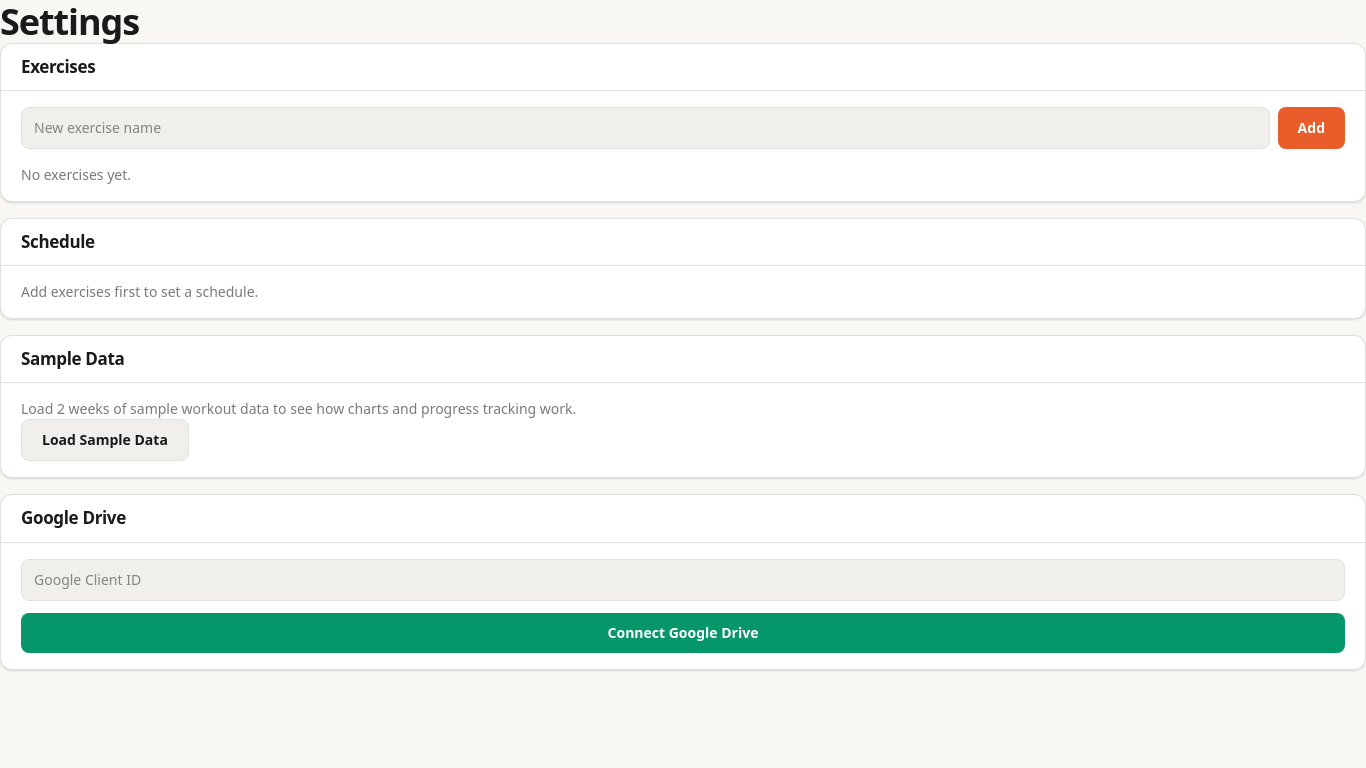
Settings - Exercise List › renames an exercise
This screenshot has width=1366, height=768.
Type "Bench Press" into the field with placeholder "New exercise name" at (645, 128), box [21,107,1270,149]
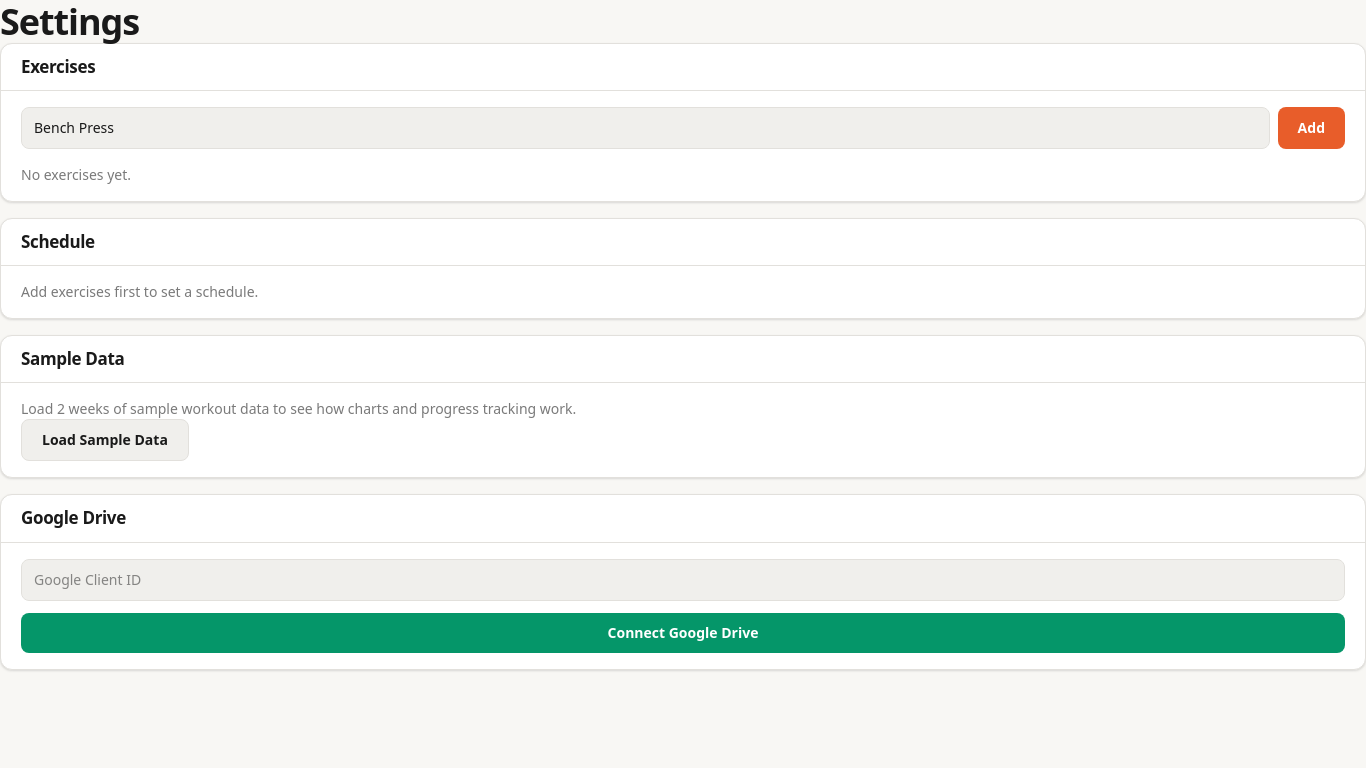
Click the button "Add" at (1311, 128), box [1278,107,1345,149]
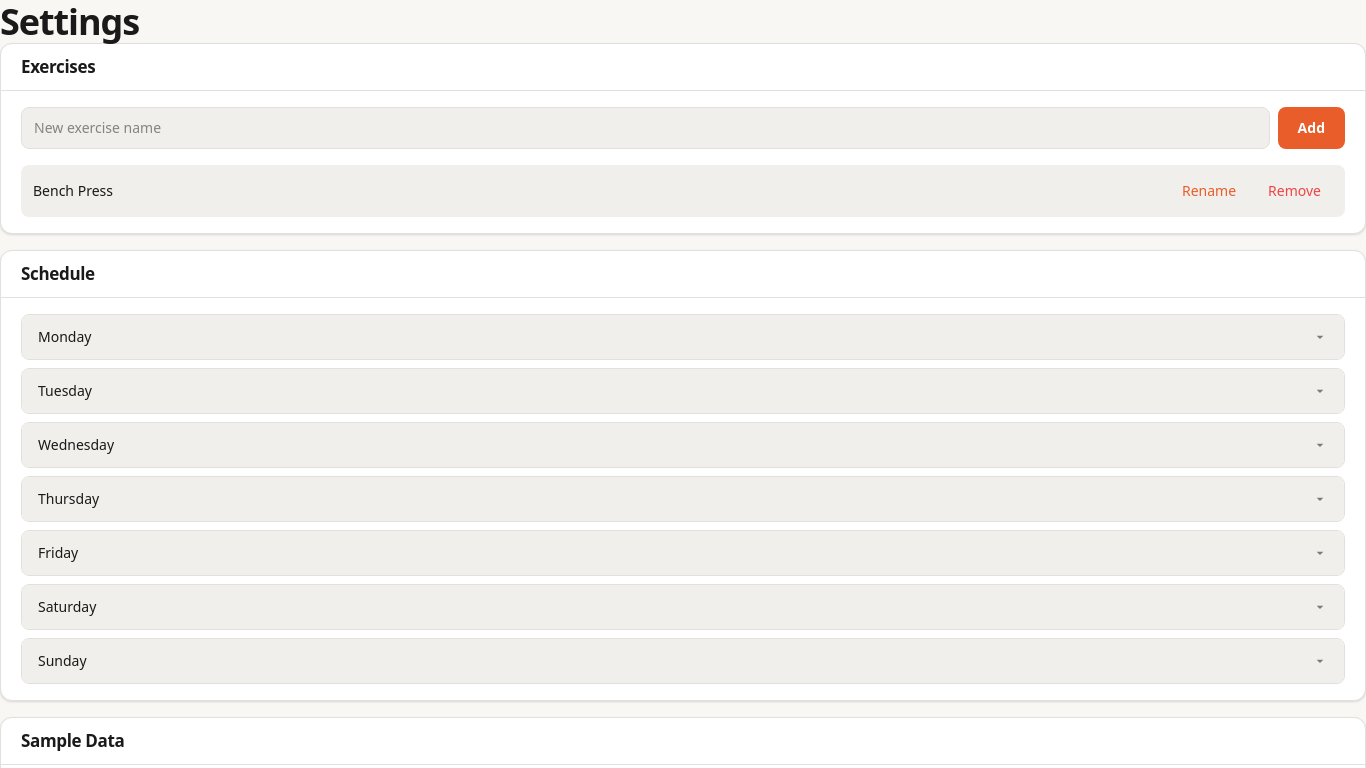
Click the button "Rename" at (1209, 191), box [1170,175,1248,207]
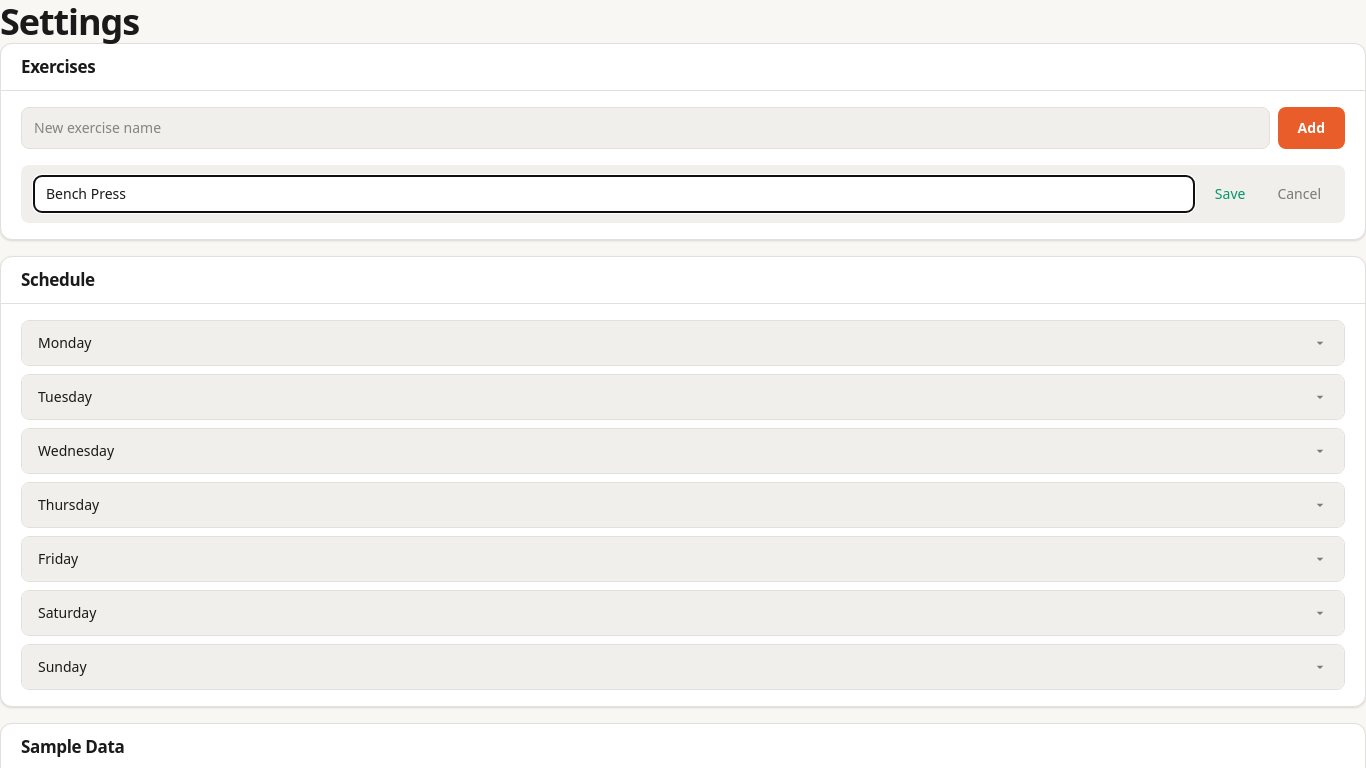
Replace the text in the field showing "Bench Press" with "Chest Press" at (614, 194), box [33,175,1195,213]
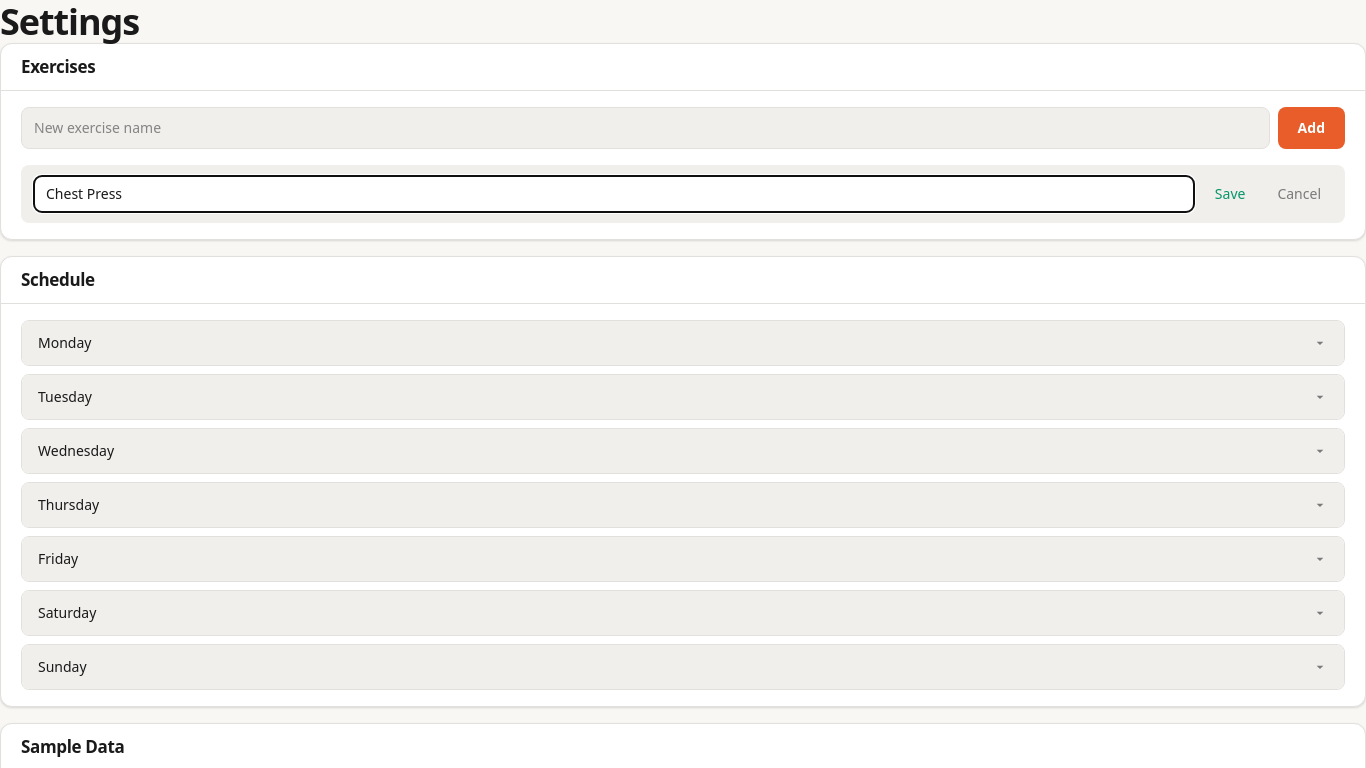
Click the button "Save" at (1230, 194), box [1203,178,1257,210]
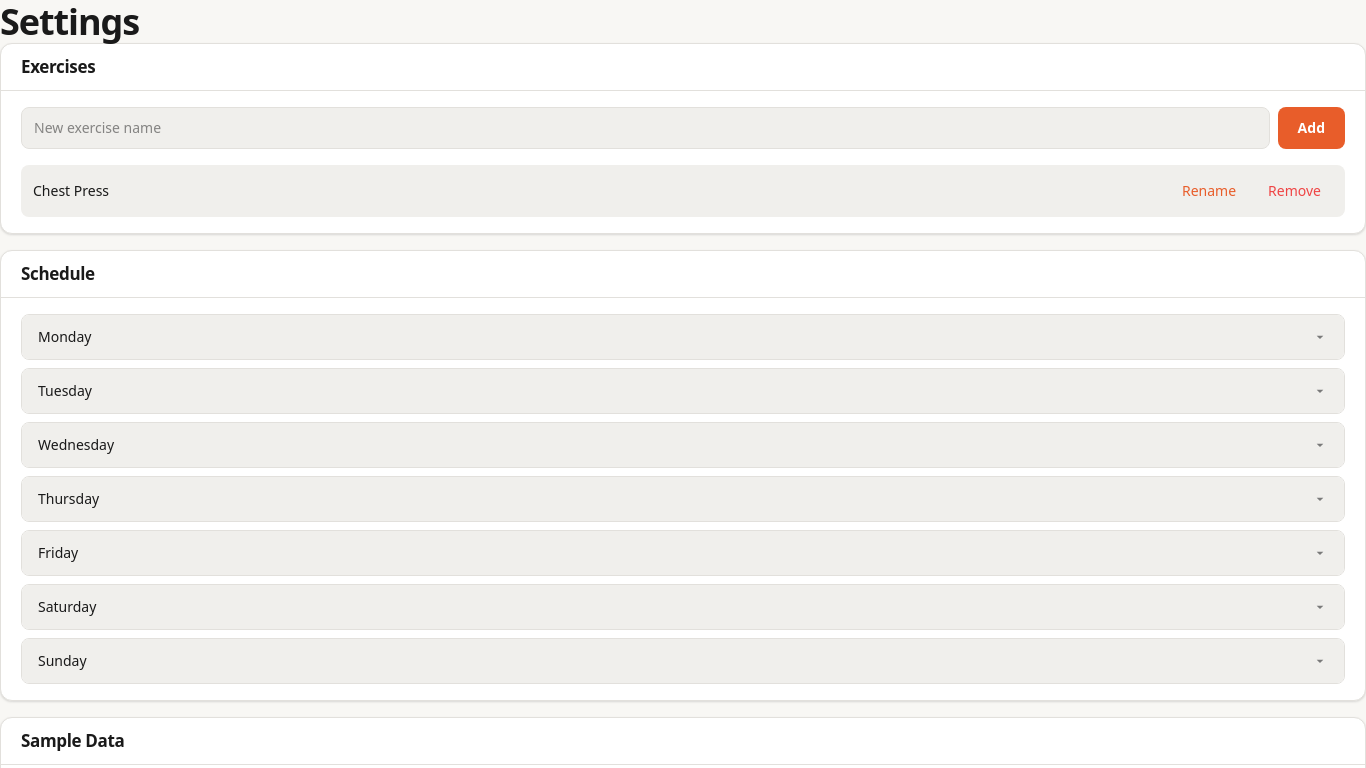
Expected: the text "Bench Press" is not shown
Now the text "Chest Press" is shown, box [33,181,109,200]
